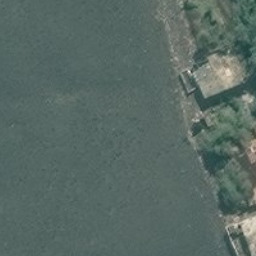buildings: (192, 104, 246, 159), (224, 208, 256, 256), (241, 132, 256, 169), (230, 120, 250, 140)
